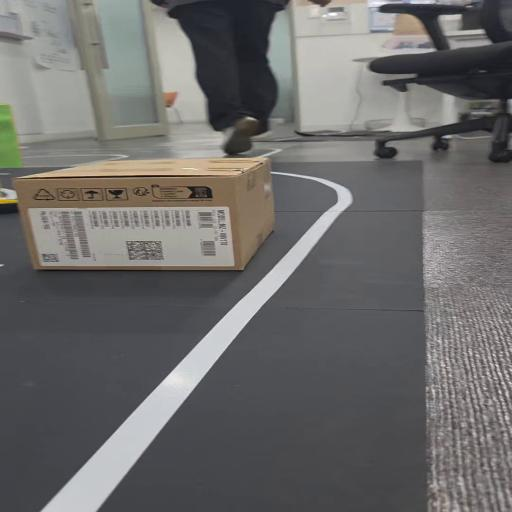Box: (16, 156, 290, 276)
